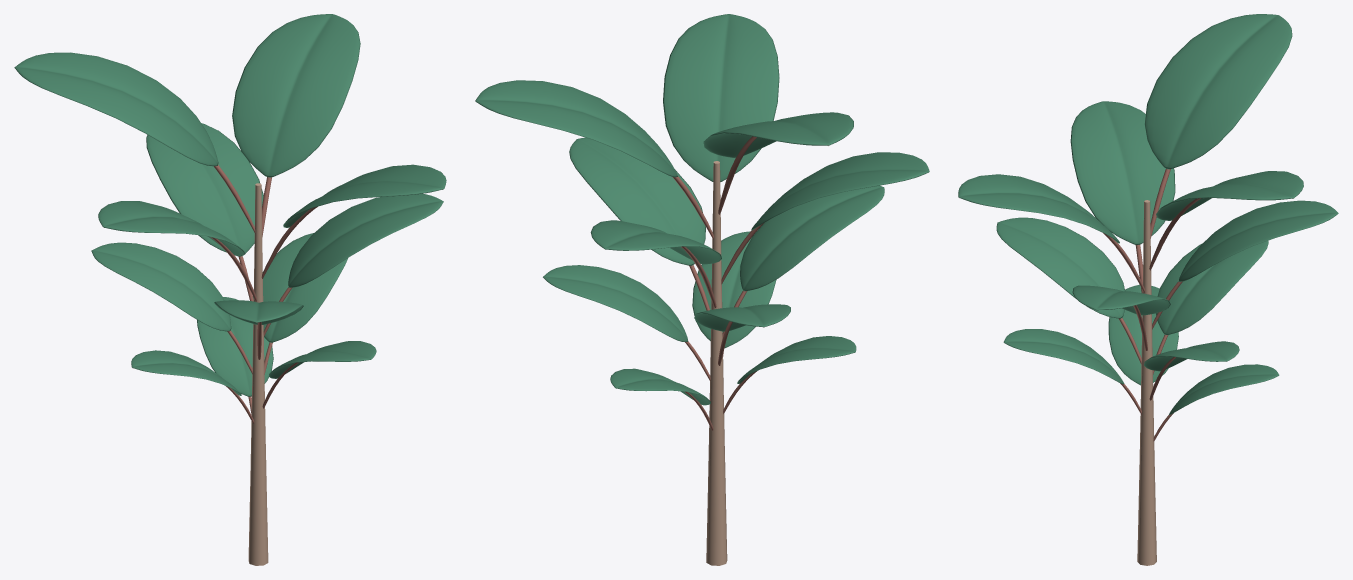
Rendered from rubber_plant.glb.
The picture shows the model from 3 angles, left to right: view 1: azimuth 30°, elevation 25°; view 2: azimuth 150°, elevation 25°; view 3: azimuth 270°, elevation 25°; orthographic projection. The views are drawn at different scales.
Visible parts, largest first — view 1: NurbsPath.037; view 2: NurbsPath.037; view 3: NurbsPath.037.
Part boxes in pixels (bbox=[...]): NurbsPath.037: bbox=[14, 14, 446, 565]; NurbsPath.037: bbox=[475, 14, 929, 565]; NurbsPath.037: bbox=[958, 14, 1338, 565].
Bounding box in the file's own units: 17.9 × 24.76 × 18.31.
